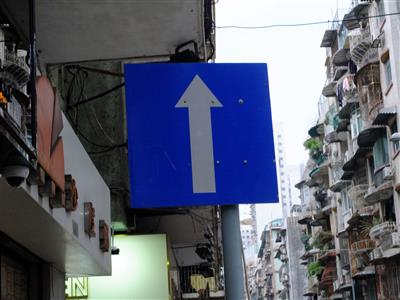oneway: (112, 52, 288, 221)
